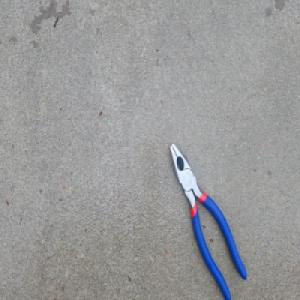Pliers: (168, 140, 247, 299)
